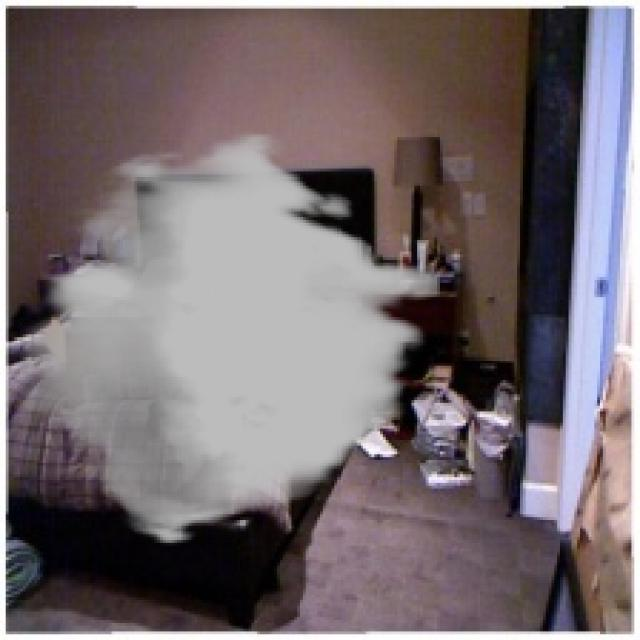smoke: (20, 131, 440, 546)
